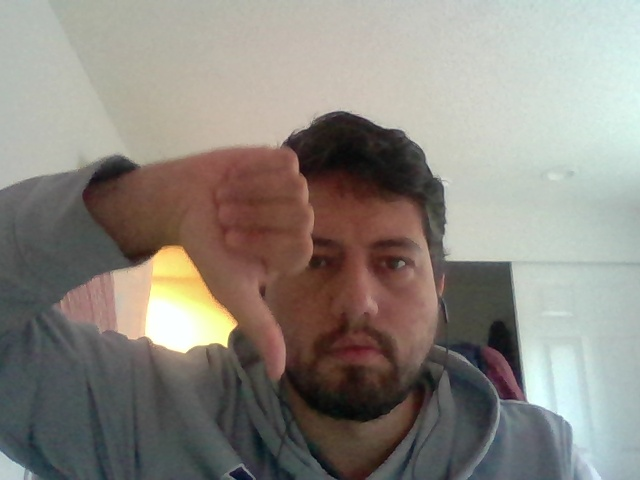ThumbsDown: (183, 143, 318, 388)
